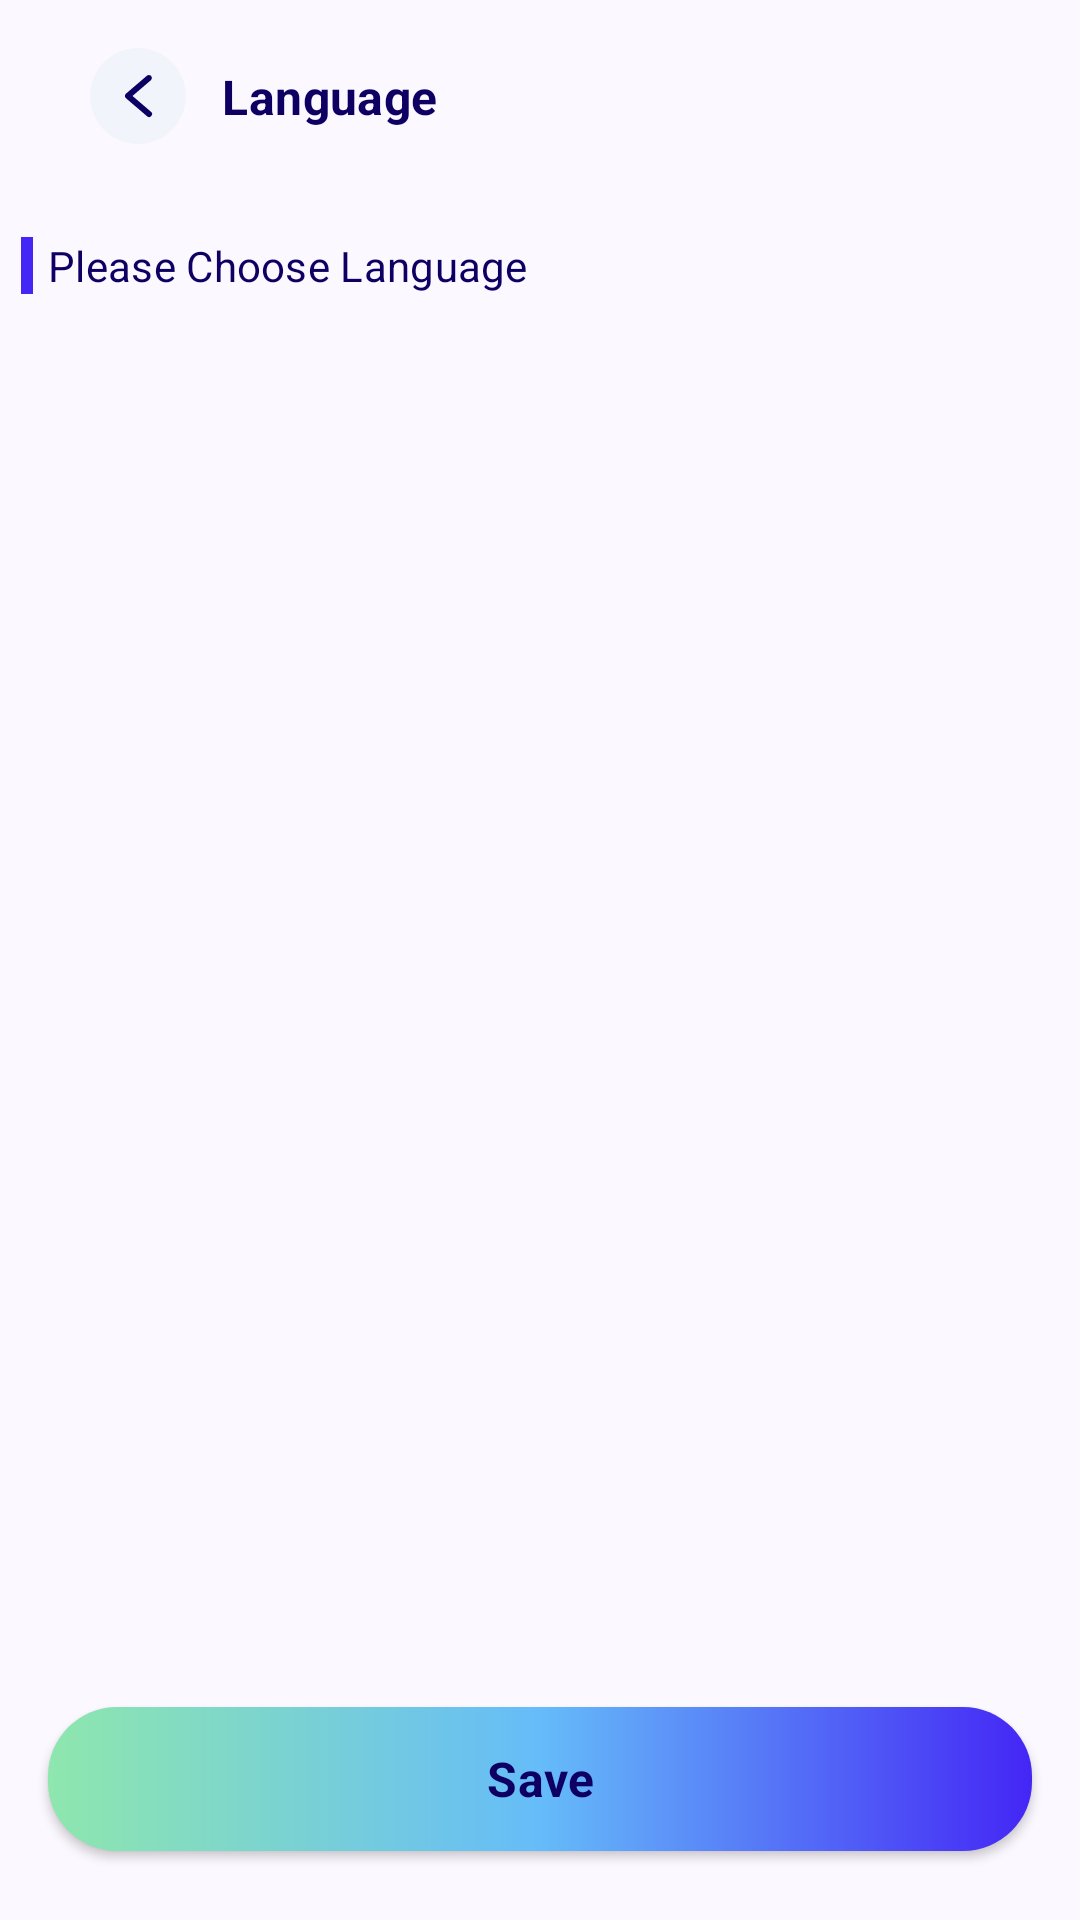

Locate icon controls on the screen. Image size 1080px x 1920px, boxes as (x1, y1, x2, y2).
arrow back: (90, 48, 186, 144)
